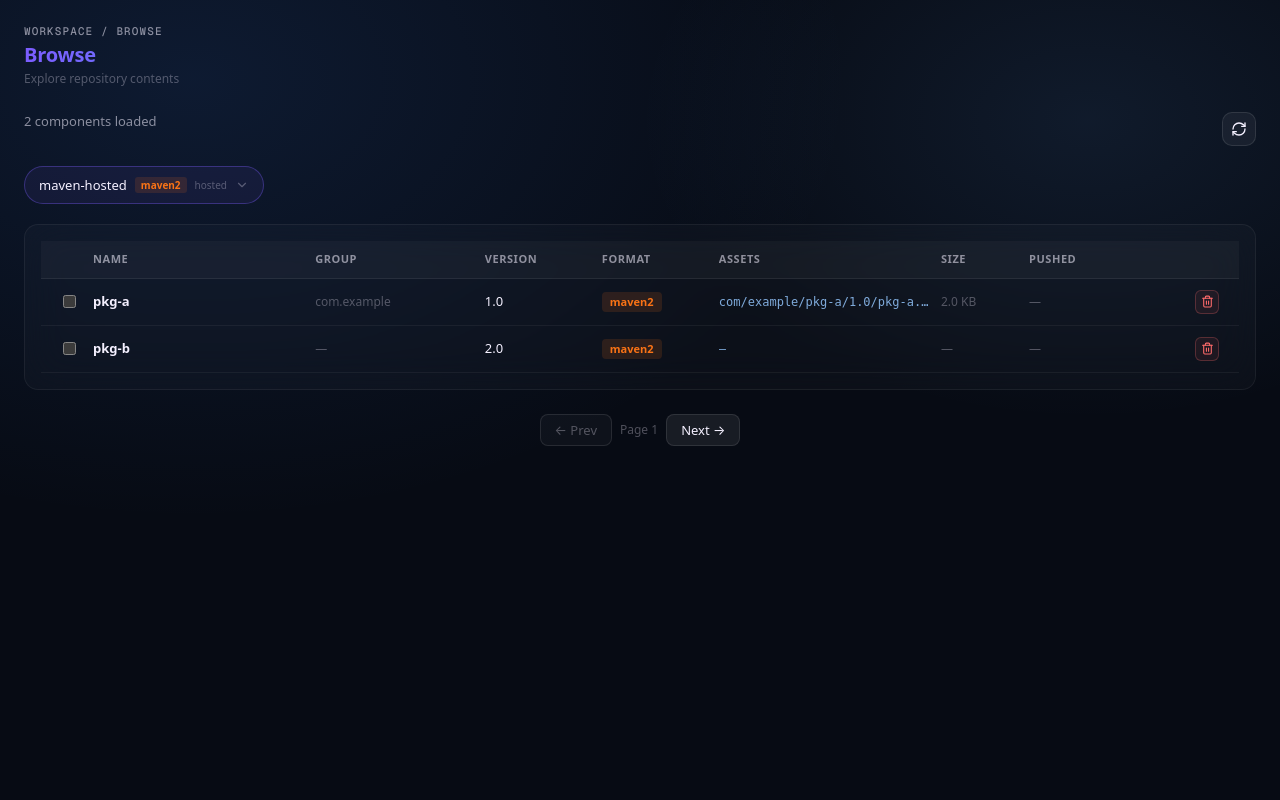
Test: BrowsePage — repo selector & empty states › lists components with assets, bulk-selects and shows promote bar
Expected: the text "pkg-a" is shown, [93,292,130,310]
Expected: the text "pkg-b" is shown, [93,339,130,357]
// bulk select first row
What coordinates should you click on to do the following:
click the checkbox in the row of "com.example"
I would click on:
 (69, 302)
Its box is [62,295,76,308].
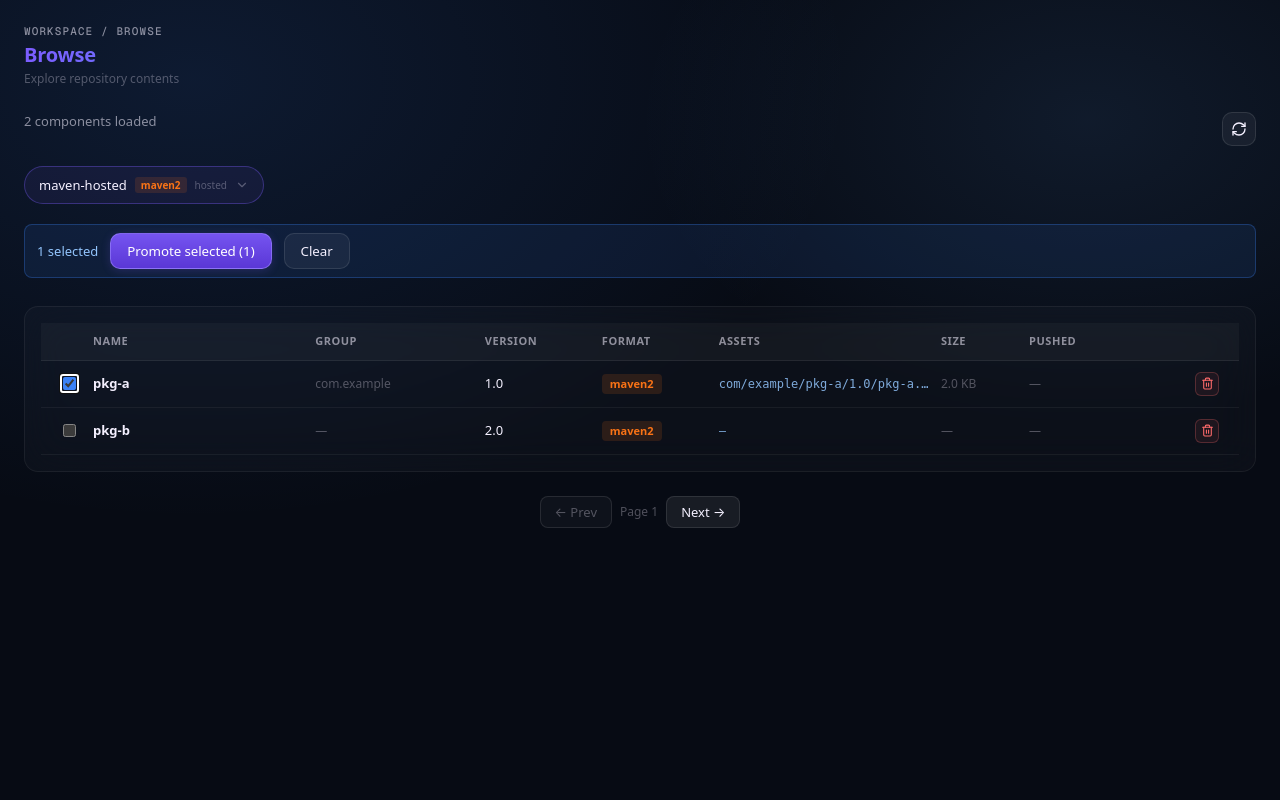
Now the text "1 selected" is shown, box [37,242,98,261]
What coordinates should you click on to do the following:
click the button "Promote selected (1)"
I would click on:
 (191, 251)
Its box is [110,233,272,269].
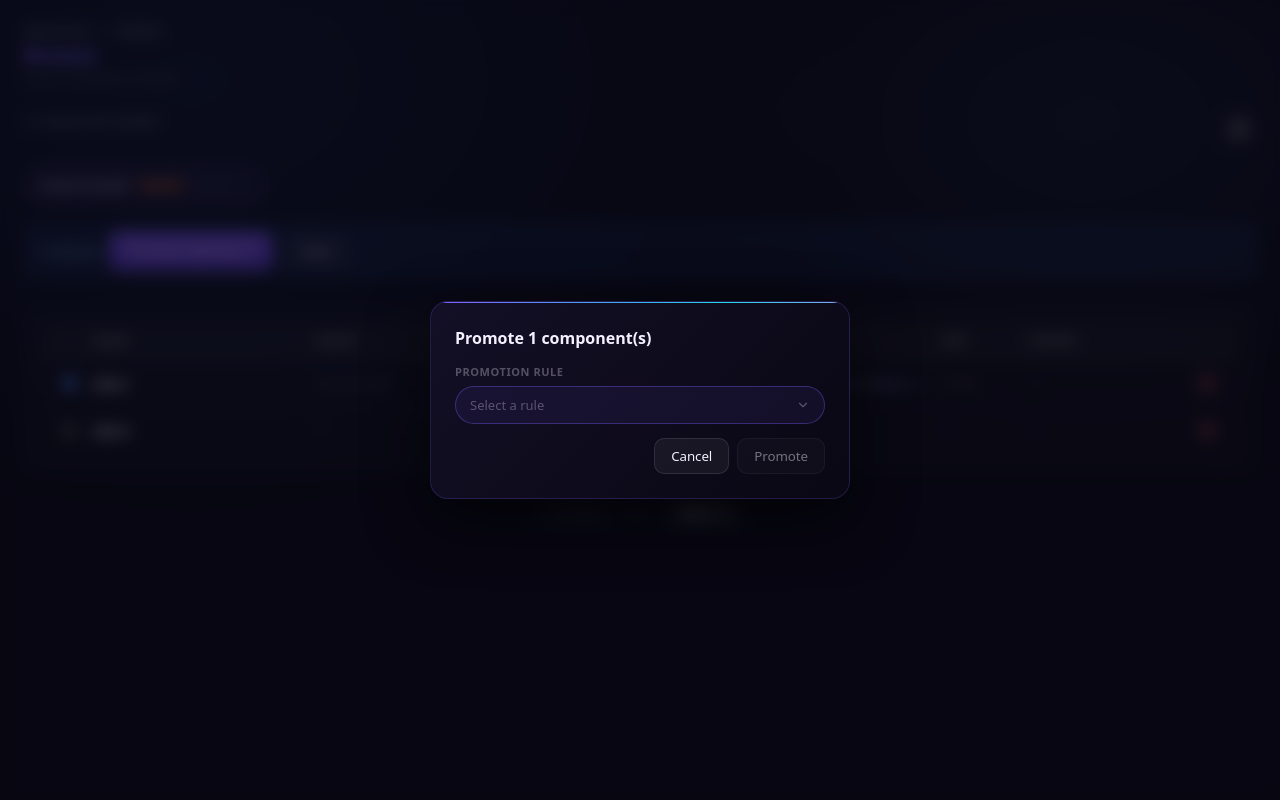
Now the heading "Promote 1 component(s)" is shown, box [455,327,652,349]
